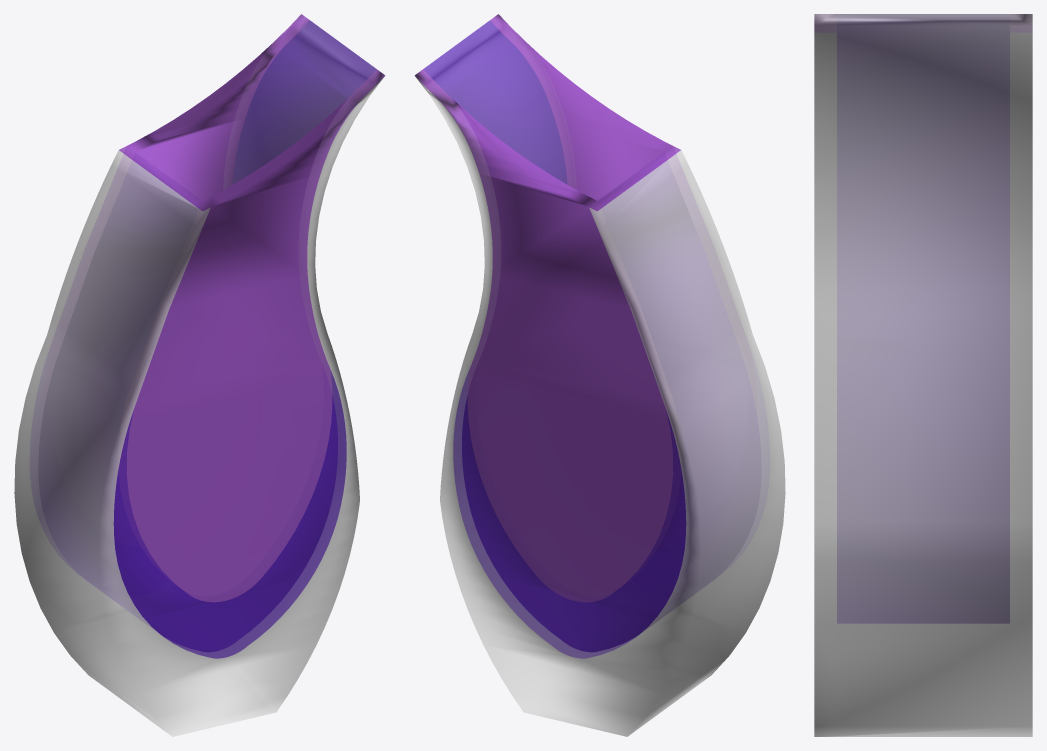
Rendered from Crystal+Duo+Tone+vase.obj.
The picture shows the model from 3 angles, left to right: view 1: azimuth 30°, elevation 25°; view 2: azimuth 150°, elevation 25°; view 3: azimuth 270°, elevation 25°; orthographic projection. The views are drawn at different scales.
Visible parts, largest first — view 1: Mesh1 Model; view 2: Mesh1 Model; view 3: Mesh1 Model.
Part boxes in pixels (left/top/right/bottom): Mesh1 Model: left=14, top=14, right=385, bottom=736; Mesh1 Model: left=414, top=14, right=785, bottom=736; Mesh1 Model: left=814, top=14, right=1032, bottom=736.
Size of the model in its own units: 172 by 350 by 87.5.
